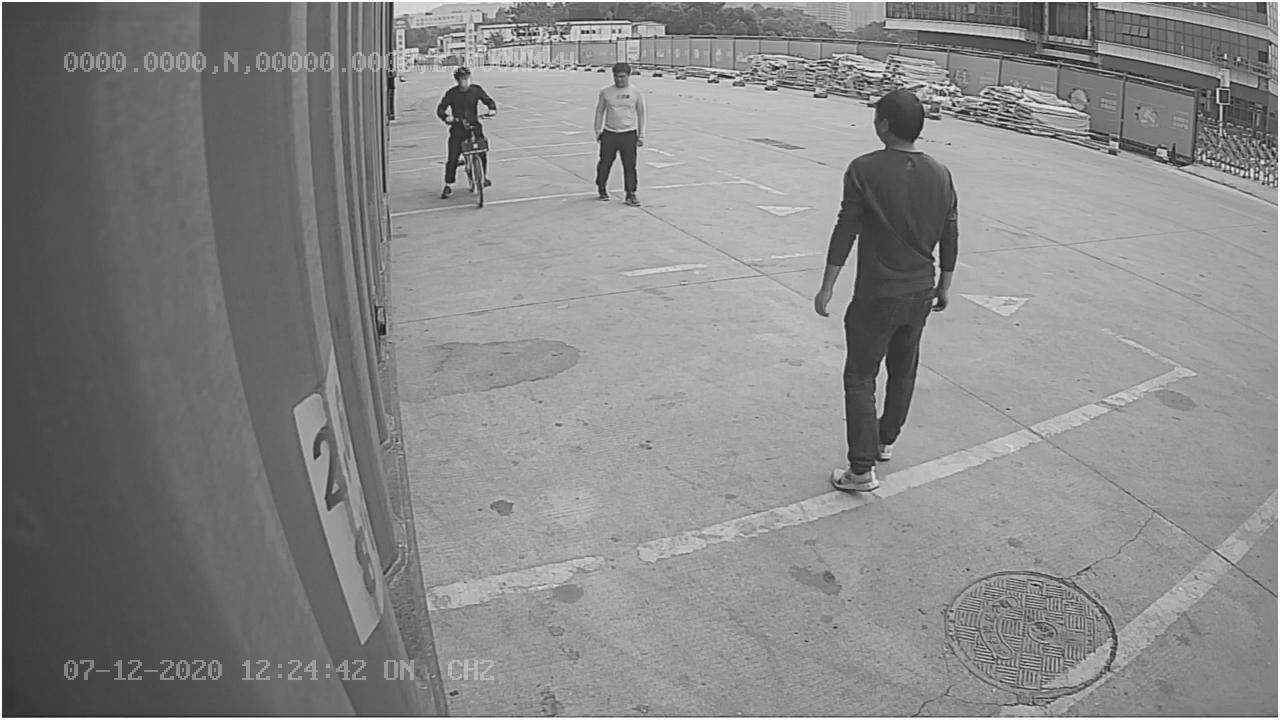person: (809, 84, 964, 506), (590, 58, 657, 212)
